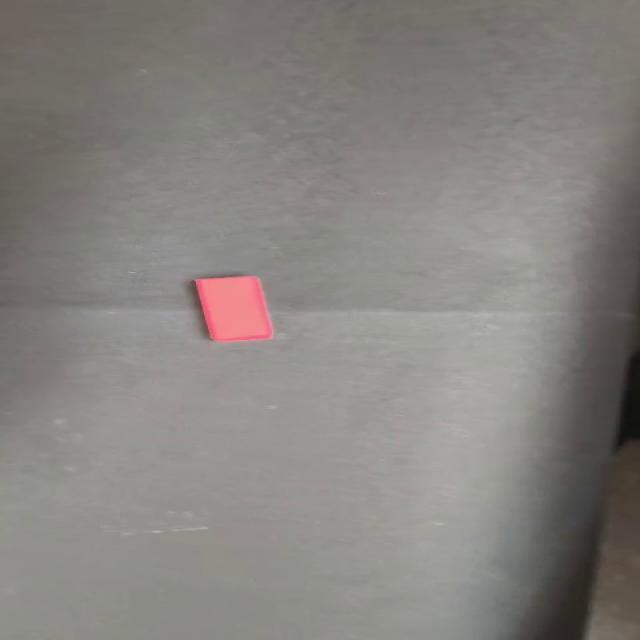red block: (192, 275, 273, 341)
